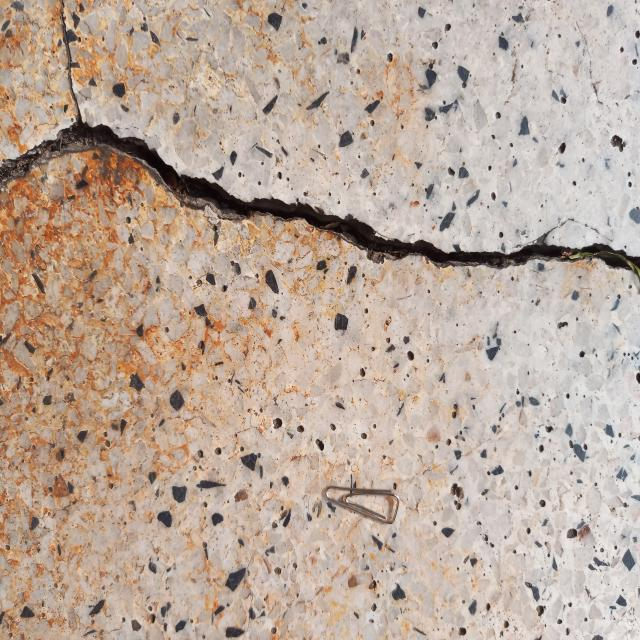horizontal crack: (0, 119, 639, 279)
